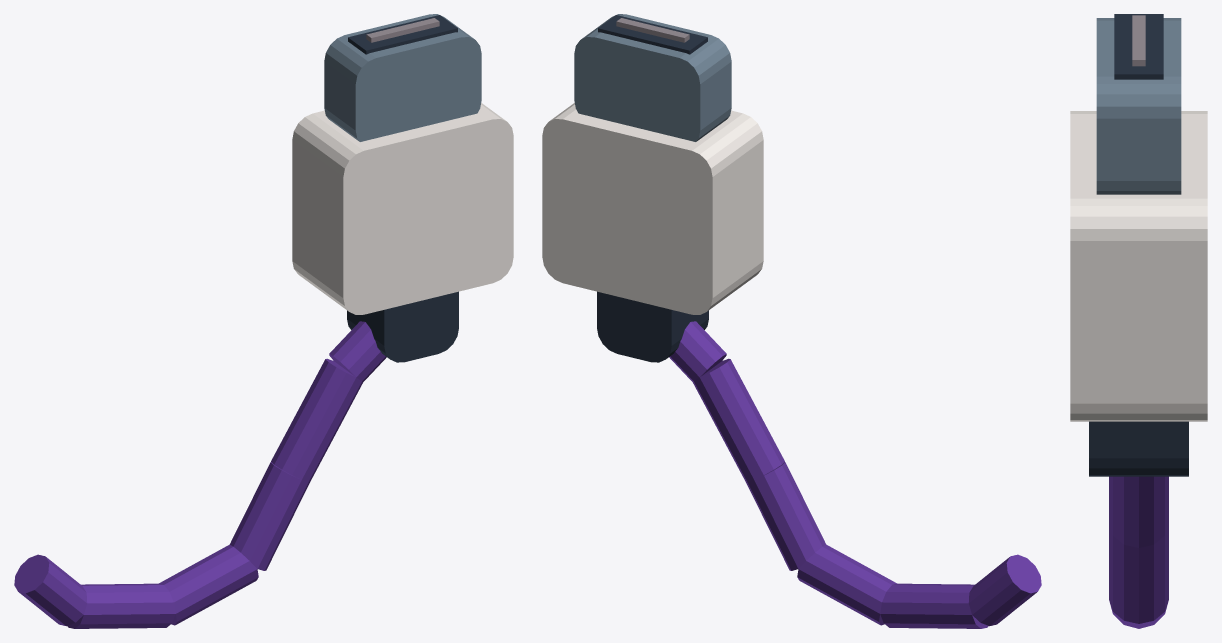
File: usbc.glb
The picture shows the model from 3 angles, left to right: view 1: azimuth 30°, elevation 25°; view 2: azimuth 150°, elevation 25°; view 3: azimuth 270°, elevation 25°; orthographic projection. The views are drawn at different scales.
Parts seen in each view (by area): view 1: plug sleeve, metal plug, rubber cable4, strain relief, rubber cable3, rubber cable1, rubber cable2, rubber cable0, rubber cable5, plug opening, contact tongue; view 2: plug sleeve, metal plug, rubber cable4, strain relief, rubber cable3, rubber cable1, rubber cable2, rubber cable0, rubber cable5, plug opening, contact tongue; view 3: plug sleeve, metal plug, strain relief, rubber cable3, rubber cable4, plug opening, contact tongue, rubber cable2.
Part boxes in pixels (left/top/right/bottom): plug sleeve: left=292, top=103, right=513, bottom=314; metal plug: left=324, top=14, right=481, bottom=141; rubber cable4: left=271, top=358, right=362, bottom=481; strain relief: left=347, top=291, right=458, bottom=362; rubber cable3: left=230, top=462, right=309, bottom=570; rubber cable1: left=67, top=583, right=175, bottom=628; rubber cable2: left=159, top=544, right=258, bottom=625; rubber cable0: left=14, top=554, right=87, bottom=626; rubber cable5: left=329, top=321, right=386, bottom=381; plug opening: left=348, top=15, right=457, bottom=54; contact tongue: left=366, top=18, right=439, bottom=42; plug sleeve: left=542, top=103, right=763, bottom=314; metal plug: left=574, top=14, right=731, bottom=141; rubber cable4: left=693, top=358, right=784, bottom=481; strain relief: left=597, top=291, right=708, bottom=362; rubber cable3: left=746, top=462, right=825, bottom=570; rubber cable1: left=880, top=583, right=988, bottom=628; rubber cable2: left=797, top=544, right=896, bottom=625; rubber cable0: left=968, top=554, right=1041, bottom=626; rubber cable5: left=669, top=321, right=726, bottom=381; plug opening: left=598, top=15, right=707, bottom=54; contact tongue: left=616, top=18, right=689, bottom=42; plug sleeve: left=1070, top=111, right=1207, bottom=421; metal plug: left=1096, top=18, right=1181, bottom=194; strain relief: left=1089, top=421, right=1188, bottom=476; rubber cable3: left=1109, top=524, right=1168, bottom=623; rubber cable4: left=1109, top=476, right=1168, bottom=547; plug opening: left=1114, top=14, right=1163, bottom=79; contact tongue: left=1132, top=15, right=1145, bottom=66; rubber cable2: left=1109, top=602, right=1168, bottom=628.
Bounding box in the file's own units: 1.38 × 1.51 × 0.26.
